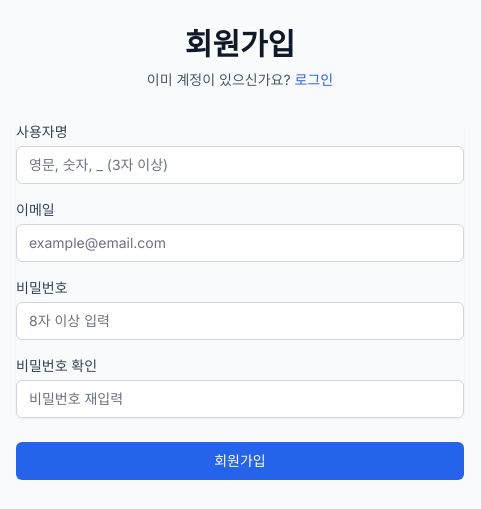
RegisterPage › 폼 검증 - 비밀번호 › 비밀번호 불일치 시 에러 메시지가 표시된다
Type "testuser" into the field labelled "사용자명" at (240, 165), box [16,146,464,184]
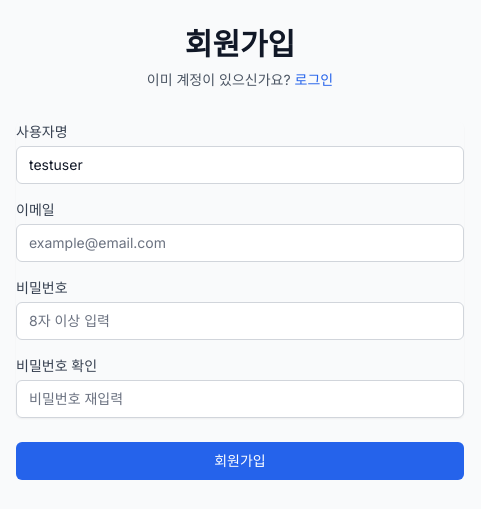
Type "test@example.com" into the field labelled "이메일" at (240, 243), box [16,224,464,262]
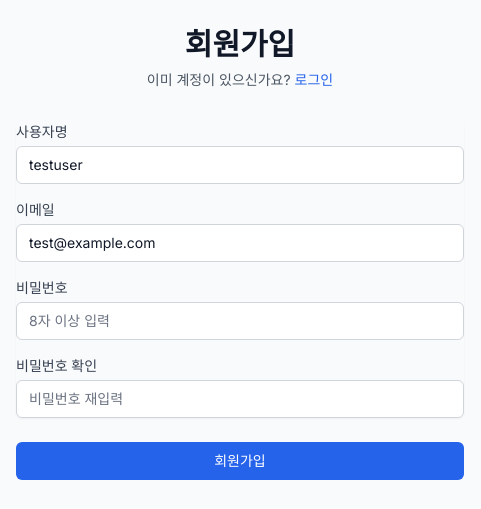
Type "password123" into the password field labelled "비밀번호" at (240, 321), box [16,302,464,340]
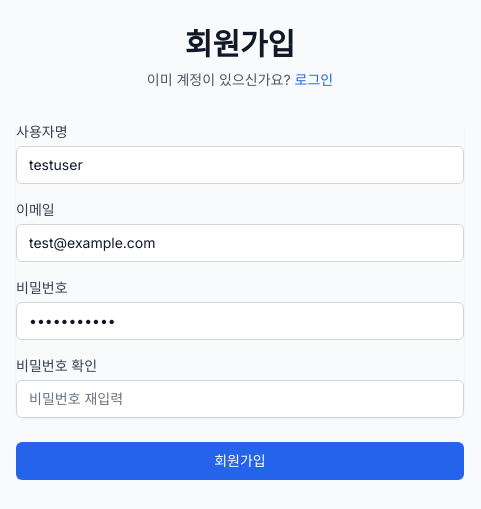
Type "different123" into the password field labelled "비밀번호 확인" at (240, 399), box [16,380,464,418]
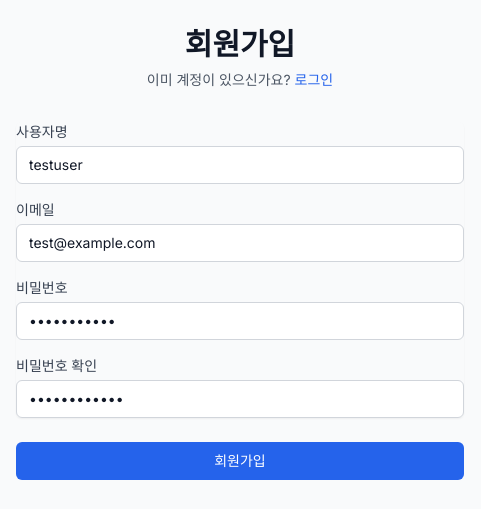
Click the button "회원가입" at (240, 461), box [16,442,464,480]
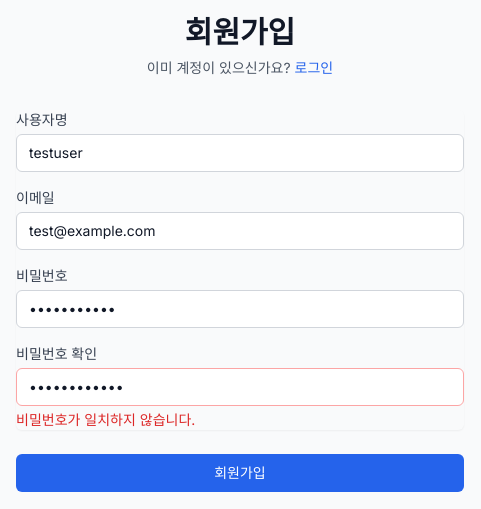
expect the text "비밀번호가 일치하지 않습니다." is shown: met, box [16,411,195,428]
